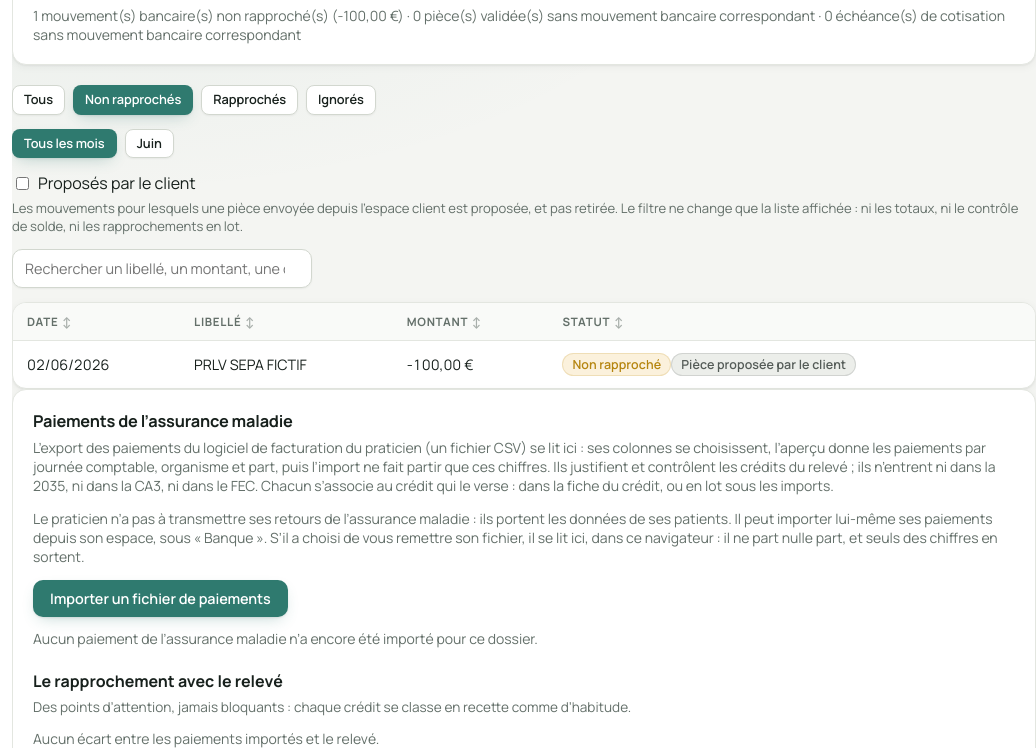
Test: la pièce proposée par le client, en tête de la fiche › une pièce déjà rapprochée d’un autre mouvement : dit, et rien à associer
(page scrolled)
Click the text "PRLV SEPA FICTIF" at (286, 364), box [180,340,393,388]
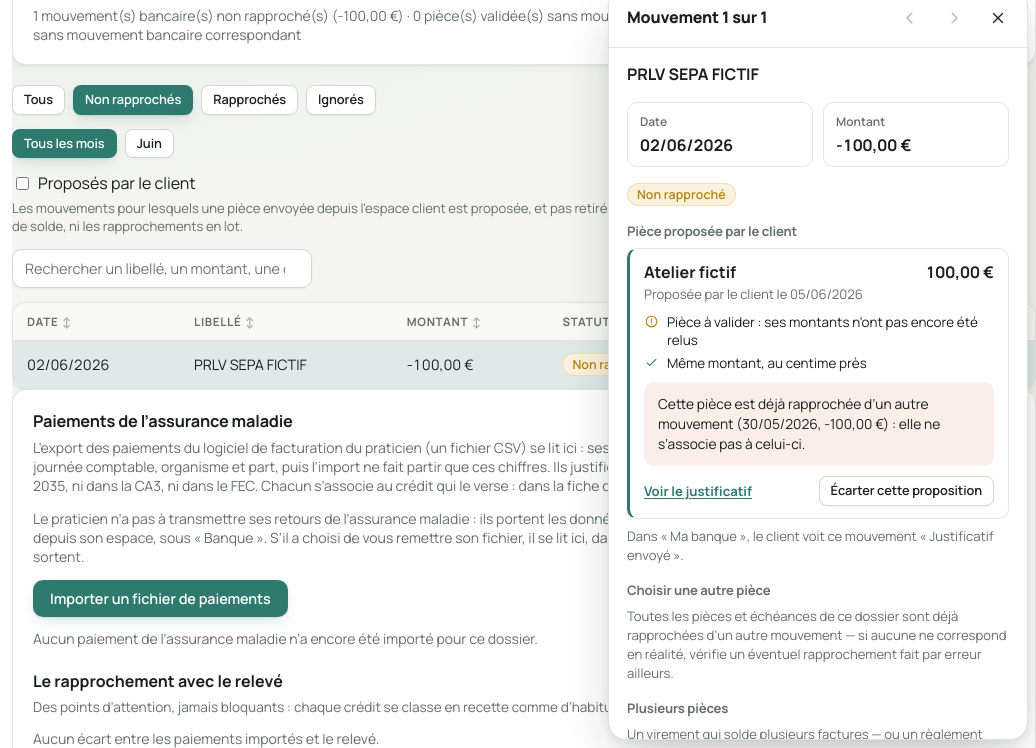
Expected: the text "déjà rapprochée d’un autre mouvement" shows "Cette pièce est déjà rapprochée d’un autre mouvement (30/05/2026, -100,00 €) : elle ne s’associe pas à celui-ci.", [658,394,940,453]
